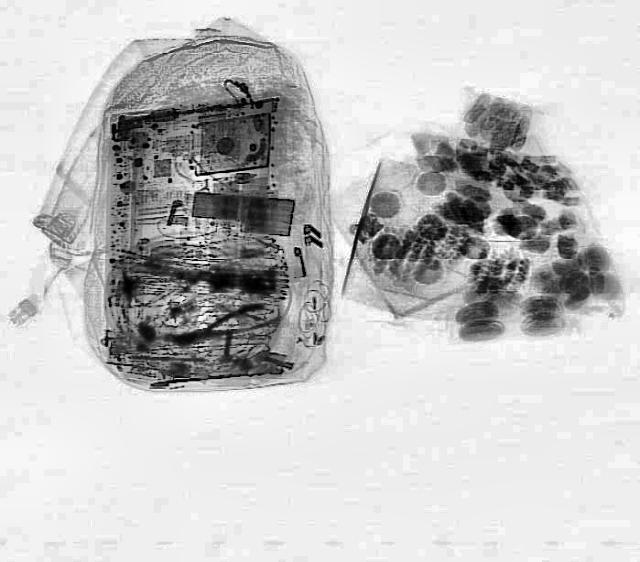Pliers: (172, 296, 282, 352)
